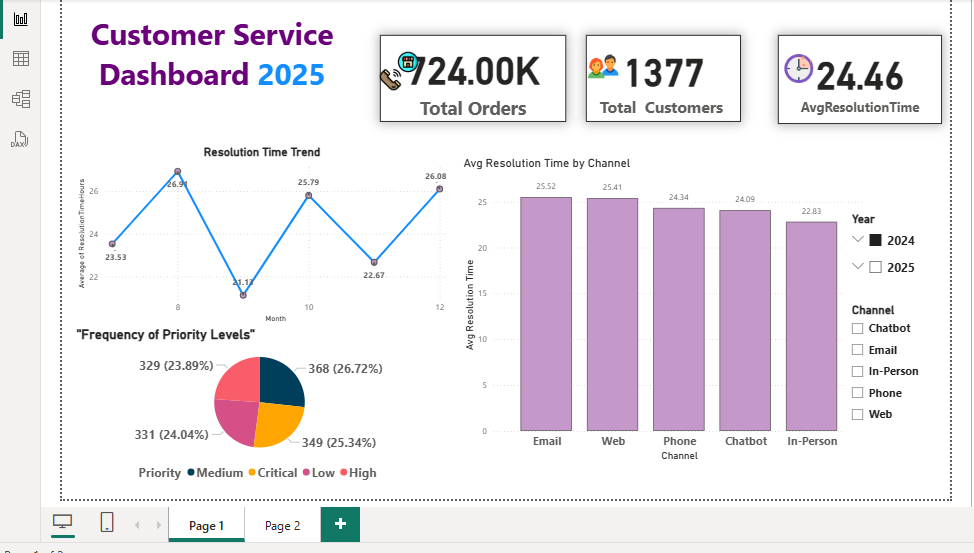

The page's visual inventory and layout, read from the dashboard file:
{"tool":"powerbi","page":{"name":"Page 1","canvas":[1280,720],"ordinal":0},"visuals":[{"type":"card","fields":{"Values":["Sum(FactCustomerInteraction.OrderAmount)"]},"box":[457.9,51.8,267.8,125.3],"z":0},{"type":"card","fields":{"Values":["CountNonNull(FactCustomerInteraction.CustomerID)"]},"box":[754.6,51.8,223.2,125.3],"z":1000},{"type":"image","box":[737.3,69.1,85,57.6],"z":2000},{"type":"image","box":[445,69.1,80.6,69.1],"z":3000},{"type":"card","fields":{"Values":["Avg(FactCustomerInteraction.ResolutionTimeHours)"]},"box":[1031,51.8,236.2,128.2],"z":4000},{"type":"image","box":[1031,69.1,60.5,61.9],"z":5000},{"type":"lineChart","title":"Resolution Time Trend","fields":{"Category":["DimDate.Month"],"Y":["Avg(FactCustomerInteraction.ResolutionTimeHours)"]},"box":[17.8,210.1,541.6,260.4],"z":6000},{"type":"lineClusteredColumnComboChart","fields":{"Category":["DimChannel.Channel"],"Y":["Avg(FactCustomerInteraction.ResolutionTimeHours)"]},"box":[572.7,226.4,588.9,443.9],"z":7000},{"type":"pieChart","title":"\"Frequency of Priority Levels\"\t","fields":{"Category":["DimPriority.Priority"],"Y":["CountNonNull(FactCustomerInteraction.OrderID)"]},"box":[16.3,470.6,537.2,230.8],"z":8000},{"type":"slicer","fields":{"Values":["DimDate.Year","DimDate.MonthName"]},"box":[1124.6,300.4,142.1,148],"z":9000},{"type":"slicer","fields":{"Values":["DimChannel.Channel"]},"box":[1124.6,432,155.5,200.2],"z":10000},{"type":"textbox","box":[0,15.8,432,138.2],"z":10001}]}

Visuals, with their boxes on the page's 1280x720 design canvas (x1, y1, x2, y2). These are canvas units, not pixel positions in the 974x553 screenshot, which may show the page scaled, cropped or inside an application window:
card - Sum(FactCustomerInteraction.OrderAmount): box=[458, 52, 726, 177]
card - CountNonNull(FactCustomerInteraction.CustomerID): box=[755, 52, 978, 177]
image: box=[737, 69, 822, 127]
image: box=[445, 69, 526, 138]
card - Avg(FactCustomerInteraction.ResolutionTimeHours): box=[1031, 52, 1267, 180]
image: box=[1031, 69, 1092, 131]
"Resolution Time Trend" lineChart: box=[18, 210, 559, 470]
lineClusteredColumnComboChart - DimChannel.Channel x Avg(FactCustomerInteraction.ResolutionTimeHours): box=[573, 226, 1162, 670]
""Frequency of Priority Levels"	" pieChart: box=[16, 471, 554, 701]
slicer - DimDate.Year x DimDate.MonthName: box=[1125, 300, 1267, 448]
slicer - DimChannel.Channel: box=[1125, 432, 1280, 632]
textbox: box=[0, 16, 432, 154]
